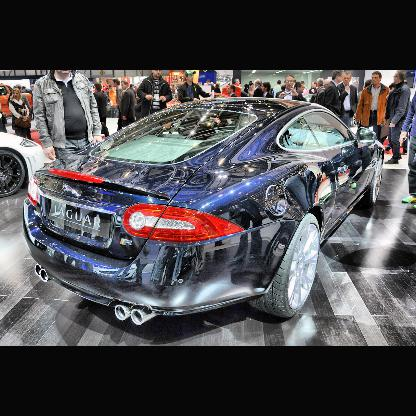Jaguar XK XKR 2012: (24, 98, 386, 327)
